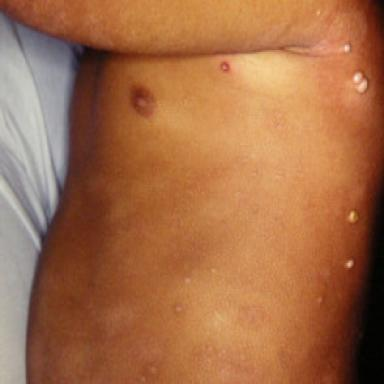Molluscum-Contagiosum: (353, 71, 368, 93), (141, 365, 157, 375), (348, 210, 359, 223), (345, 259, 354, 269), (343, 43, 351, 53), (221, 62, 229, 71), (175, 304, 182, 313), (317, 296, 323, 304), (185, 277, 191, 284), (211, 267, 216, 273), (317, 10, 321, 15)
